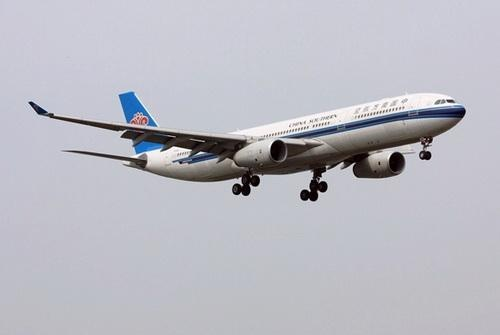airplane: (25, 89, 473, 205)
